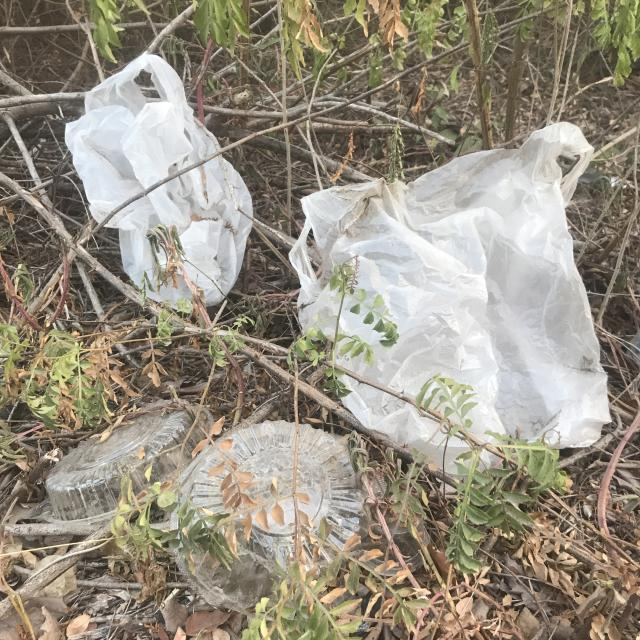Single-layer Plastic: (290, 122, 610, 471), (65, 54, 215, 221), (108, 159, 251, 305)
